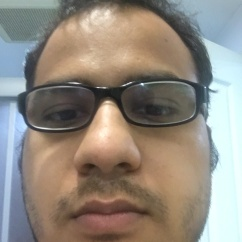glasses: (16, 79, 216, 130)
